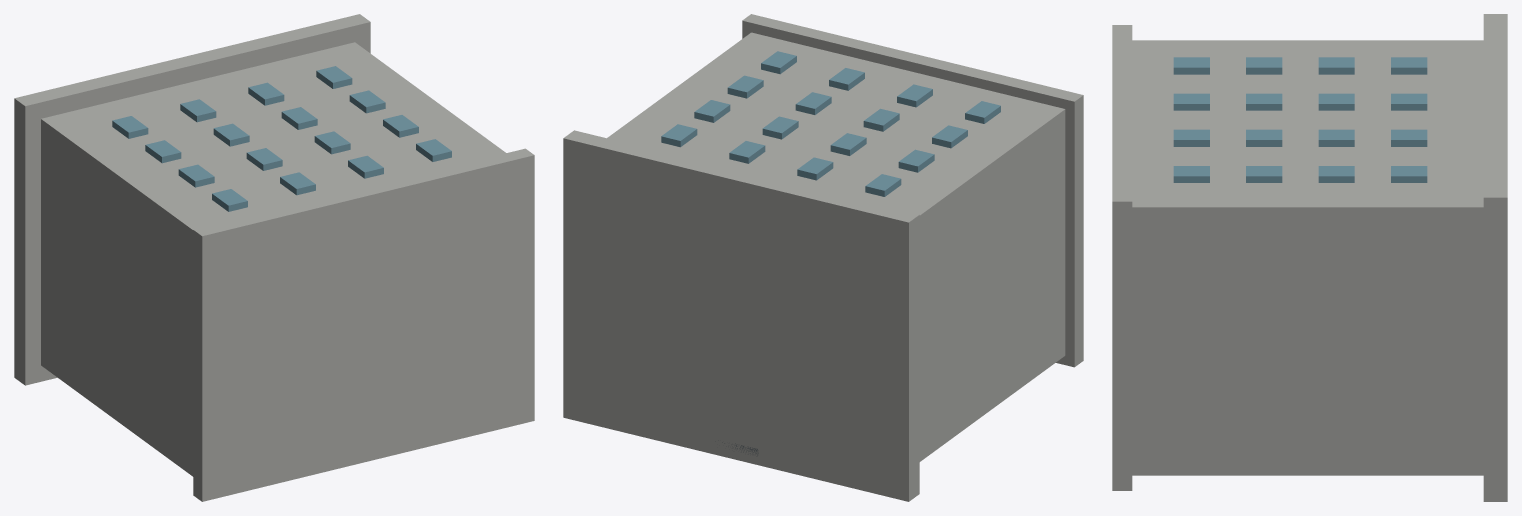
Rendered from AGE_VI_residential.glb.
3 views of the same model, side by side, from view 1: azimuth 30°, elevation 25°; view 2: azimuth 150°, elevation 25°; view 3: azimuth 270°, elevation 25° (orthographic). The views are drawn at different scales.
Parts seen in each view (by area): view 1: world; view 2: world; view 3: world.
Part boxes in pixels (x1=…): world: x1=14, y1=14, x2=534, y2=501; world: x1=563, y1=14, x2=1083, y2=501; world: x1=1112, y1=14, x2=1507, y2=501.
Size of the model in its own units: 6.6 by 5.1 by 6.
